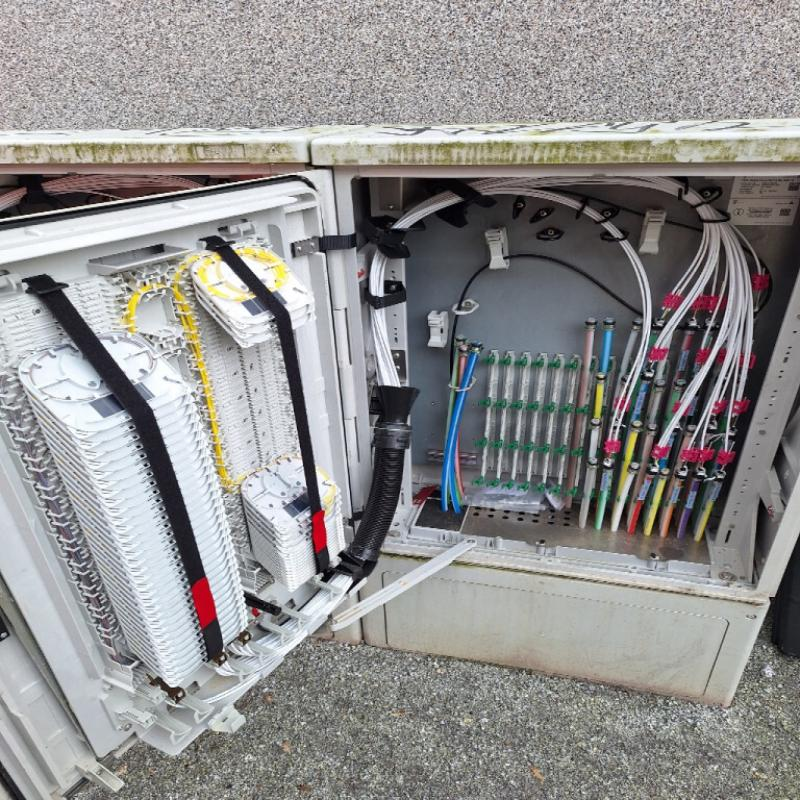NT-Gehause: (1, 120, 800, 800)
Spleiskassetten: (1, 276, 256, 691), (169, 237, 355, 611)
